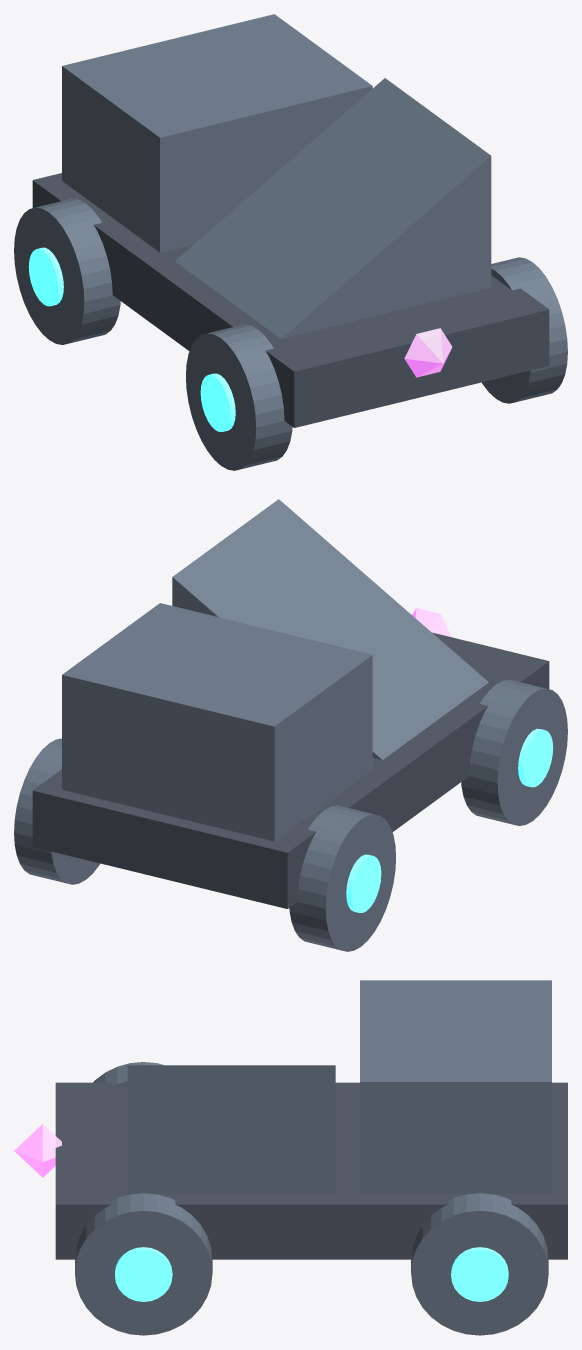
Rendered from AXM-VEHICLE-CHASSIS-001.glb.
3 renders of one model, top to bottom at view 1: azimuth 30°, elevation 25°; view 2: azimuth 150°, elevation 25°; view 3: azimuth 270°, elevation 25°, orthographic. The views are drawn at different scales.
Parts seen in each view (by area): view 1: cabin, cargo, chassis, wheel__g01, wheel__g00, wheel__g02, front_core, hub__g00, hub__g01; view 2: cargo, chassis, cabin, wheel__g00, wheel__g01, wheel__g03, hub__g01, hub__g00, front_core; view 3: cargo, chassis, cabin, wheel__g02, wheel__g03, hub__g02, hub__g03, front_core, wheel__g00.
Boxes of the visible parts, x1=… form: cabin: x1=175, y1=78, x2=491, y2=338; cargo: x1=62, y1=14, x2=372, y2=252; chassis: x1=32, y1=173, x2=549, y2=427; wheel__g01: x1=14, y1=198, x2=120, y2=344; wheel__g00: x1=186, y1=324, x2=292, y2=470; wheel__g02: x1=481, y1=257, x2=567, y2=403; front_core: x1=404, y1=328, x2=452, y2=377; hub__g00: x1=200, y1=373, x2=235, y2=431; hub__g01: x1=28, y1=247, x2=63, y2=306; cargo: x1=62, y1=603, x2=372, y2=841; chassis: x1=32, y1=632, x2=549, y2=908; cabin: x1=172, y1=499, x2=488, y2=759; wheel__g00: x1=461, y1=679, x2=567, y2=825; wheel__g01: x1=289, y1=805, x2=395, y2=951; wheel__g03: x1=14, y1=738, x2=100, y2=884; hub__g01: x1=346, y1=854, x2=381, y2=912; hub__g00: x1=518, y1=728, x2=553, y2=787; front_core: x1=412, y1=608, x2=451, y2=637; cargo: x1=360, y1=980, x2=551, y2=1194; chassis: x1=55, y1=1082, x2=567, y2=1259; cabin: x1=127, y1=1065, x2=335, y2=1194; wheel__g02: x1=75, y1=1193, x2=212, y2=1335; wheel__g03: x1=411, y1=1193, x2=548, y2=1335; hub__g02: x1=115, y1=1247, x2=172, y2=1301; hub__g03: x1=451, y1=1247, x2=508, y2=1301; front_core: x1=14, y1=1124, x2=61, y2=1177; wheel__g00: x1=93, y1=1062, x2=164, y2=1086.
Bounding box in the file's own units: 2.28 × 1.7 × 3.46.
